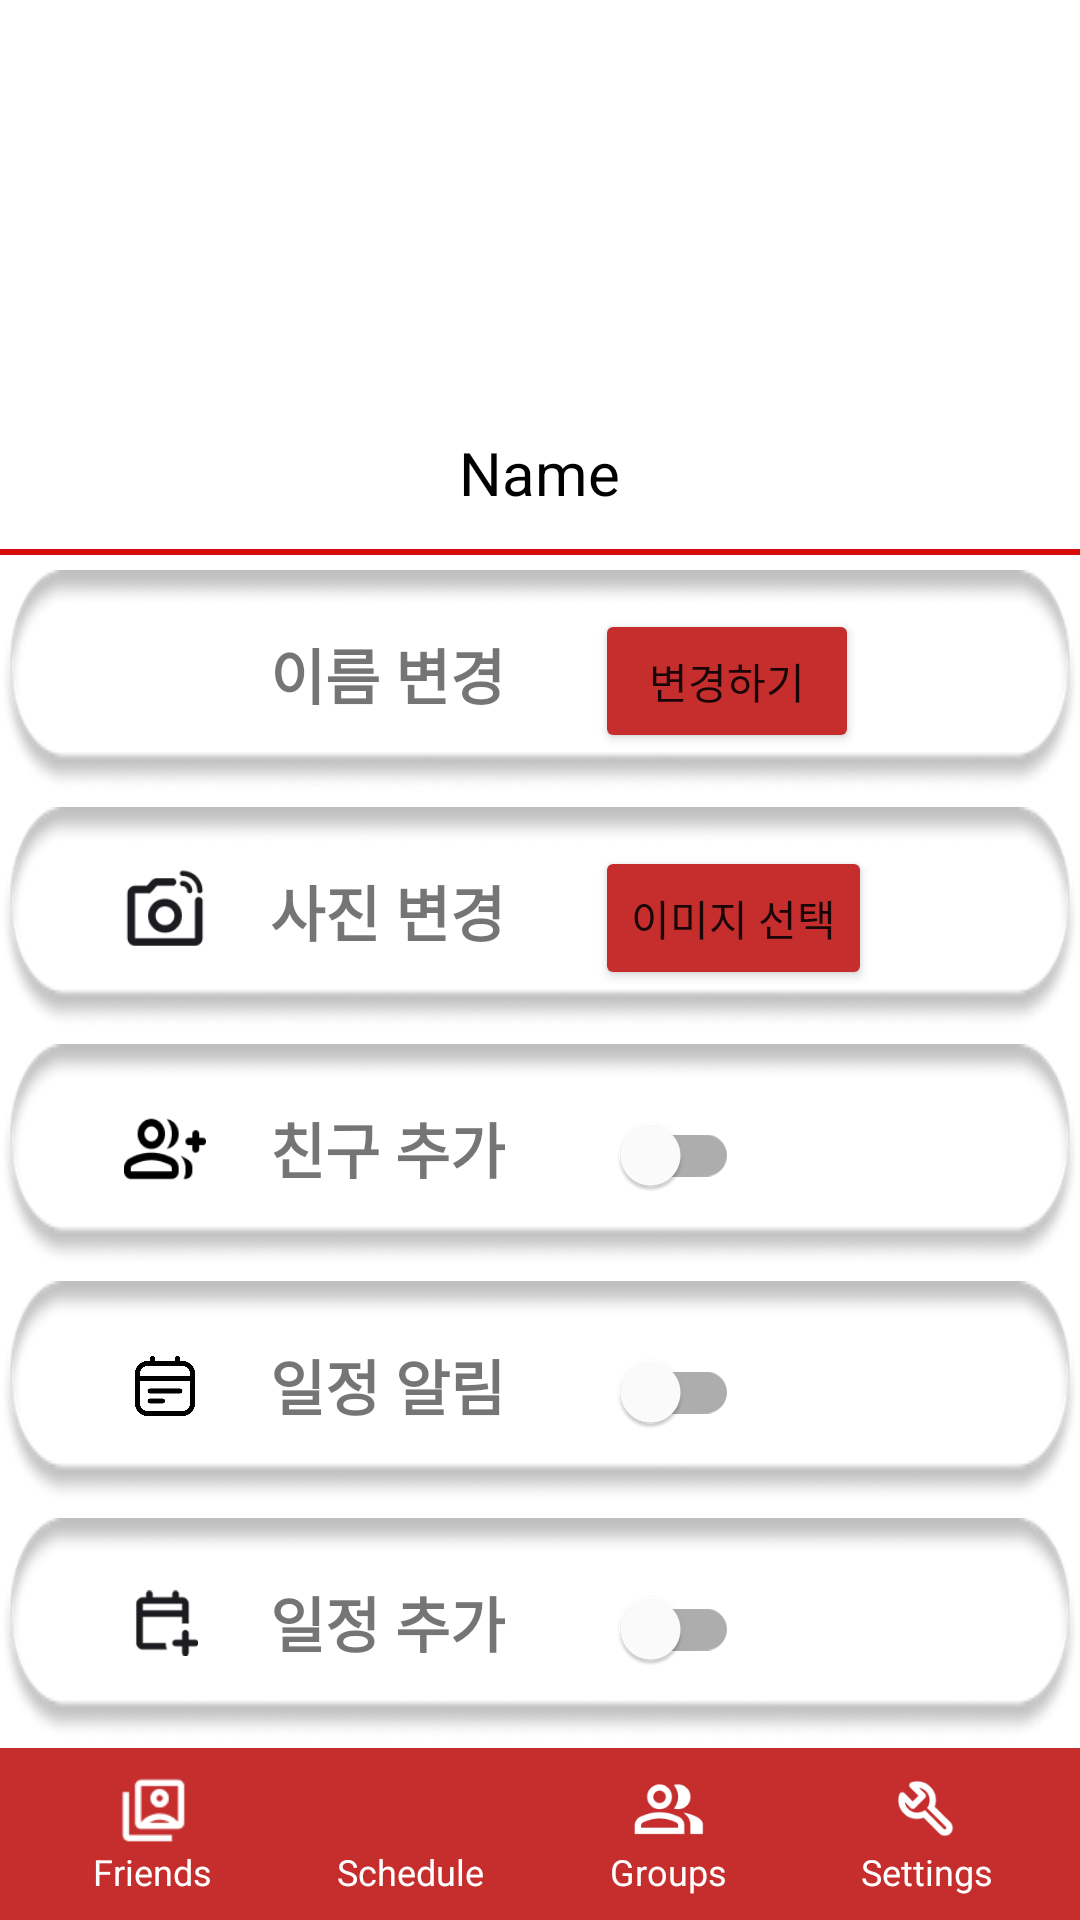

Screen size 1080px×1920px. Icon name, then its center in pixels as [x,y]:
add friend: [165,1149]
add schedule: [167,1623]
calendar: [165,1386]
camera: [165,908]
profile: [153,1810]
